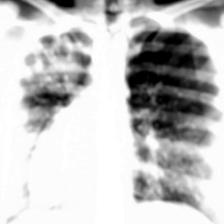tuberculosis: (1, 14, 224, 224)
